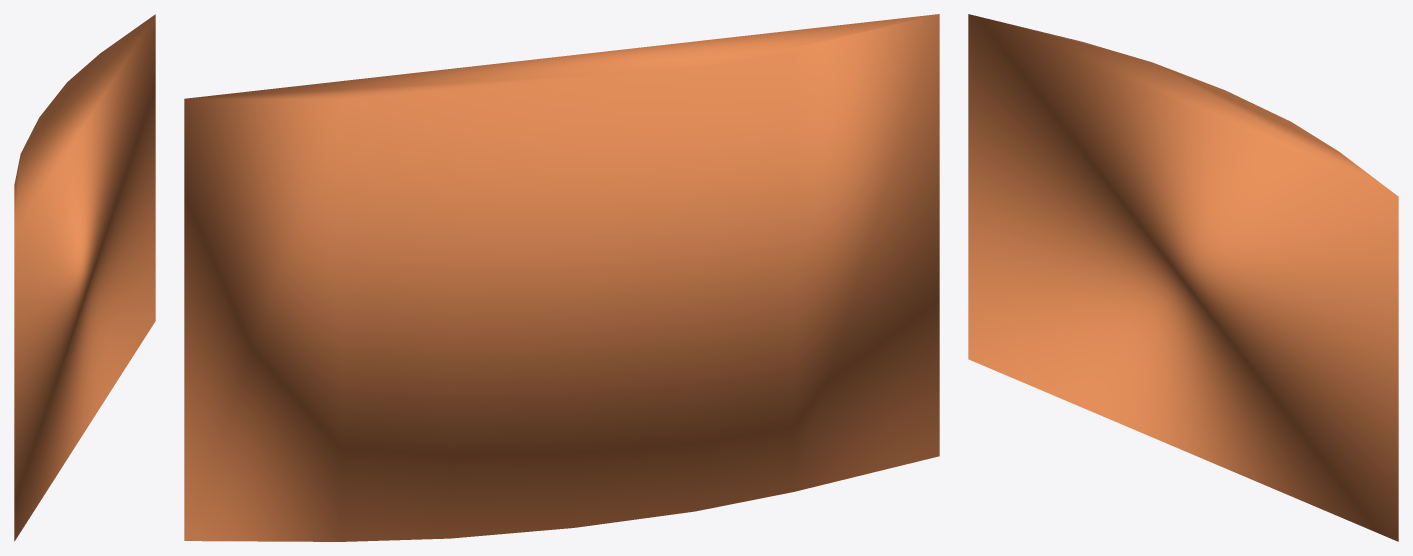
The model's file is Pinball_TriangleBump_Small_R.fbx.
3 renders of one model, left to right at view 1: azimuth 30°, elevation 25°; view 2: azimuth 150°, elevation 25°; view 3: azimuth 270°, elevation 25°, orthographic. The views are drawn at different scales.
Visible parts, largest first — view 1: Pinball_TriangleBump_Small_R; view 2: Pinball_TriangleBump_Small_R; view 3: Pinball_TriangleBump_Small_R.
Boxes of the visible parts, x1,y1,x2,y2 form: Pinball_TriangleBump_Small_R: [14, 14, 155, 541]; Pinball_TriangleBump_Small_R: [184, 14, 939, 541]; Pinball_TriangleBump_Small_R: [968, 14, 1398, 541].
Size of the model in its own units: 41.3 by 36.4 by 41.12.
